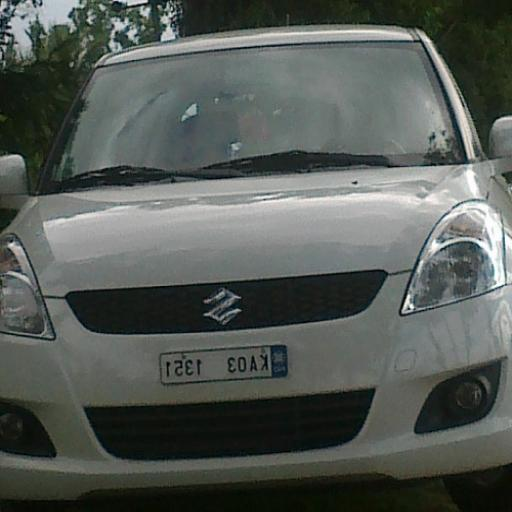License: (160, 343, 289, 384)
